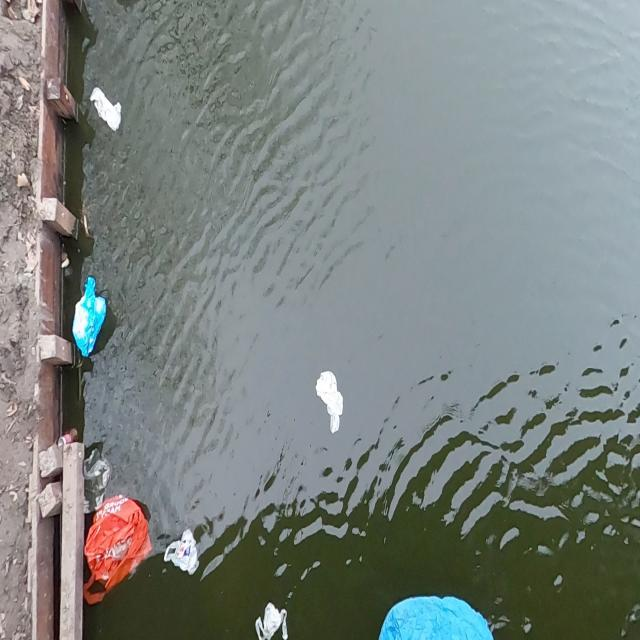Sac plastique: (82, 495, 156, 614), (381, 570, 506, 640), (70, 270, 106, 366), (310, 364, 352, 434), (83, 438, 113, 516), (171, 520, 208, 580), (88, 81, 126, 138), (248, 593, 294, 640)
